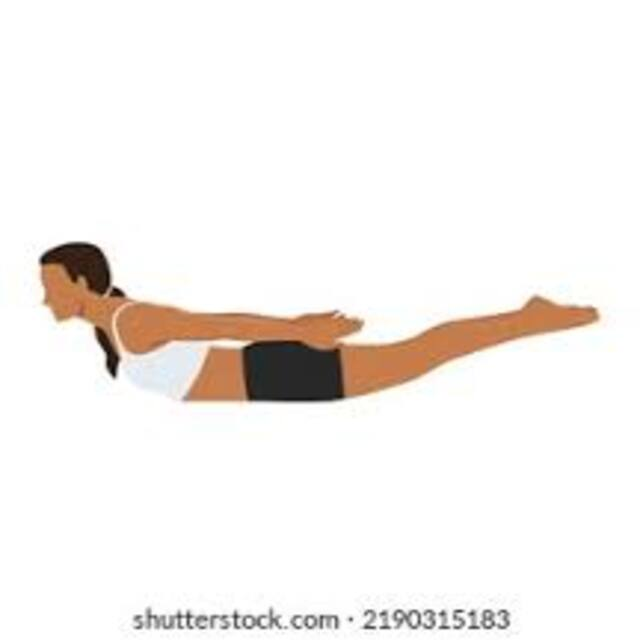Locust_Pose: (39, 240, 604, 405)
